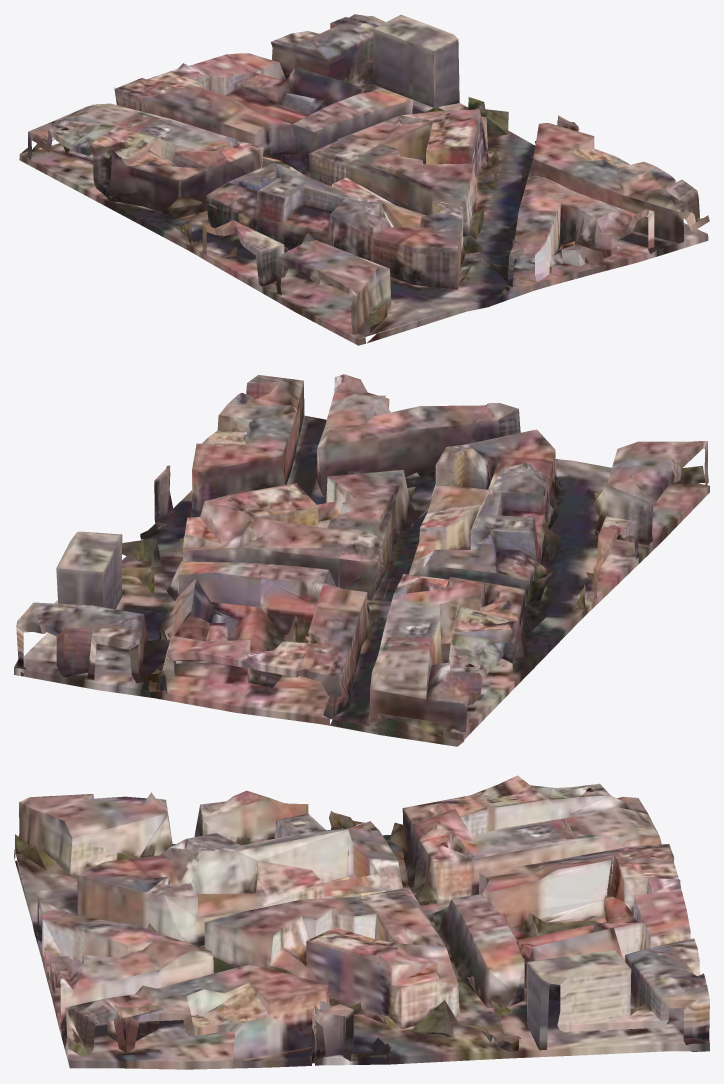
The picture shows the model from 3 angles, top to bottom: view 1: azimuth 30°, elevation 25°; view 2: azimuth 150°, elevation 25°; view 3: azimuth 270°, elevation 25°; orthographic projection. The views are drawn at different scales.
Visible parts, largest first — view 1: Mesh_0; view 2: Mesh_0; view 3: Mesh_0.
Boxes of the visible parts, box(x1,y1,x2,y2) form: Mesh_0: box(19, 14, 709, 345); Mesh_0: box(14, 374, 709, 746); Mesh_0: box(14, 775, 709, 1069).
Size of the model in its own units: 271 by 45.95 by 330.
2 materials, 2 textured.
